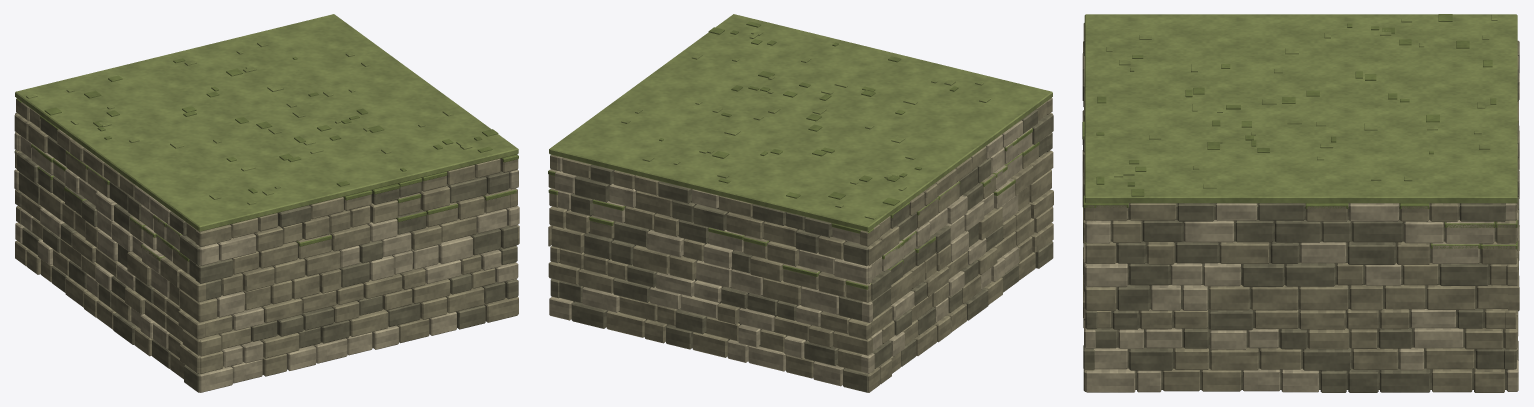
Rendered from SM_Pilot_MossCliff4m.fbx.
The picture shows the model from 3 angles, left to right: view 1: azimuth 30°, elevation 25°; view 2: azimuth 150°, elevation 25°; view 3: azimuth 270°, elevation 25°; orthographic projection. The views are drawn at different scales.
Visible parts, largest first — view 1: SM_Pilot_MossCliff4m; view 2: SM_Pilot_MossCliff4m; view 3: SM_Pilot_MossCliff4m.
Part boxes in pixels (x1,y1,x2,y2): SM_Pilot_MossCliff4m: (14,14,519,392); SM_Pilot_MossCliff4m: (548,14,1053,392); SM_Pilot_MossCliff4m: (1082,14,1519,392).
Size of the model in its own units: 404 by 404 by 201.
Materials: 5 (5 with a texture image).
